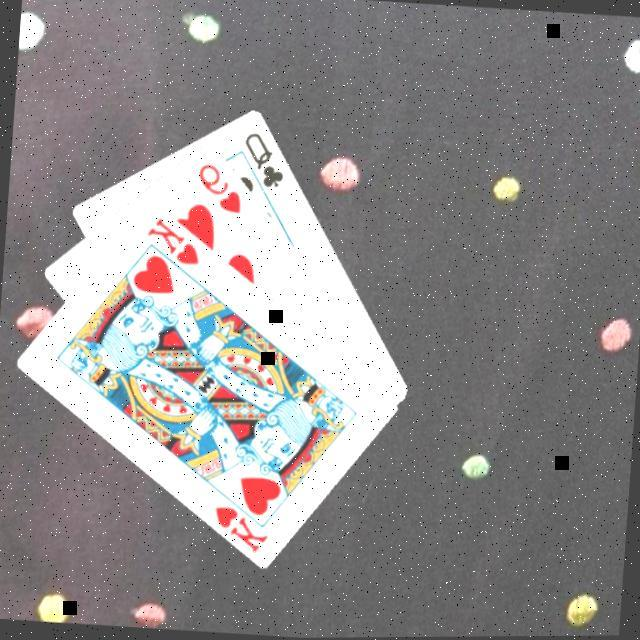9H: (193, 157, 250, 216)
KH: (142, 211, 206, 267), (208, 500, 274, 554)
QC: (239, 126, 292, 191)
